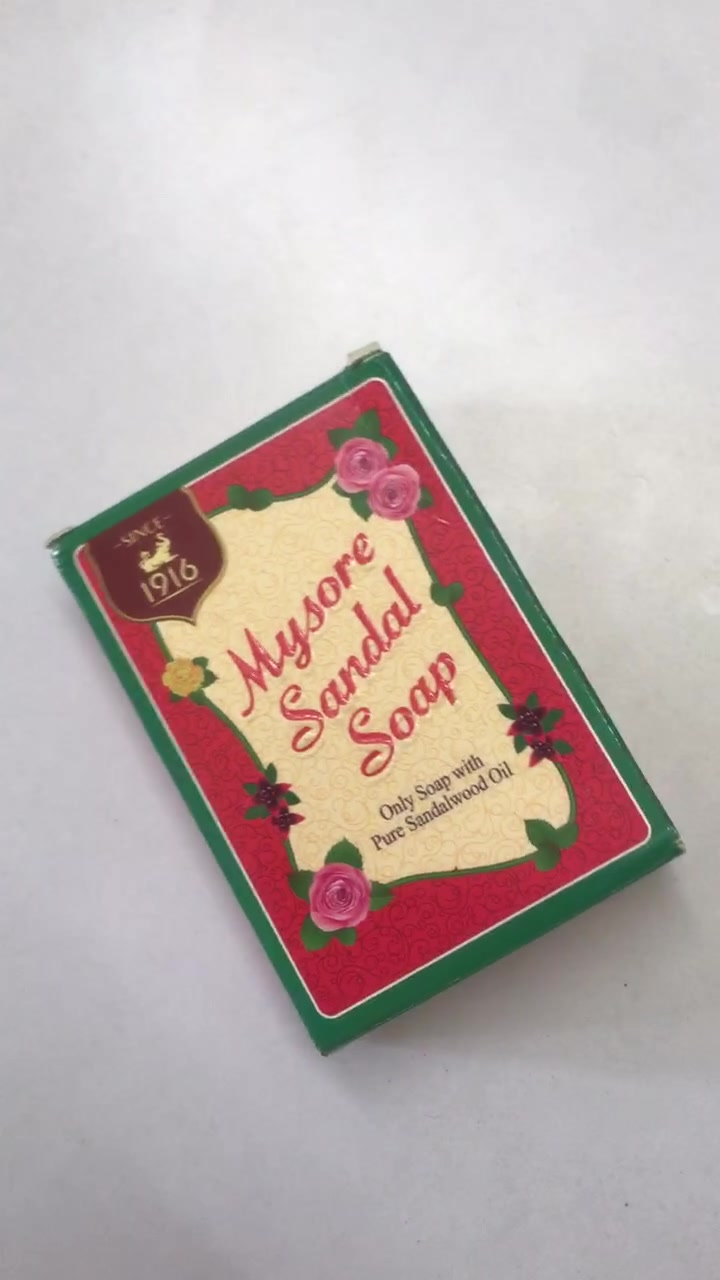mysore sandal soap: (49, 356, 681, 1055)
